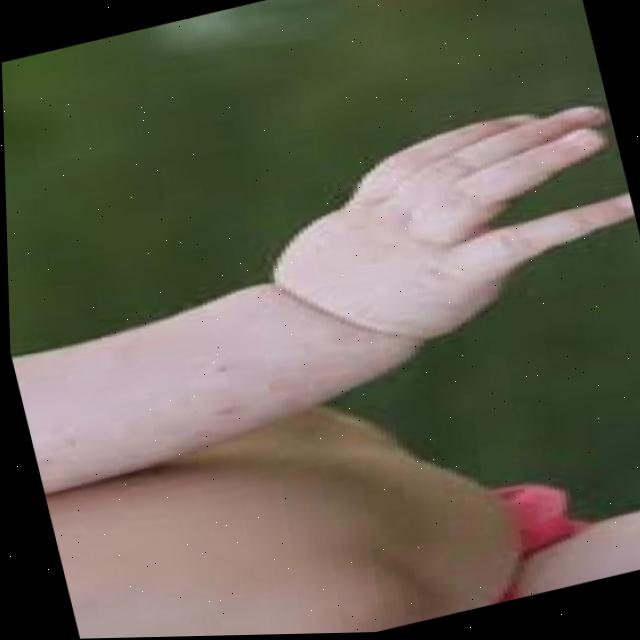Eczema: (131, 327, 357, 451)
